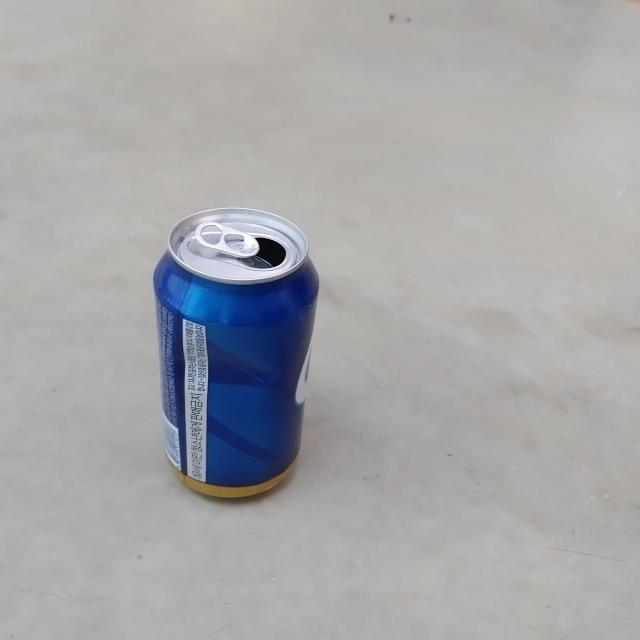can: (153, 207, 319, 498)
